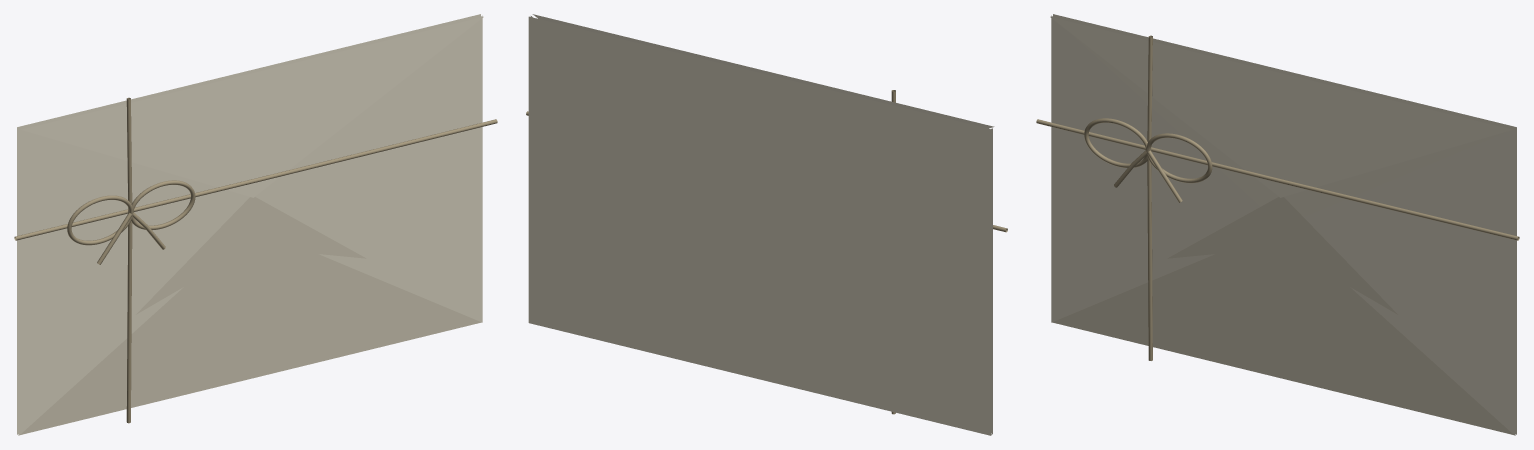
File: envelope.glb
The picture shows the model from 3 angles, left to right: view 1: azimuth 30°, elevation 25°; view 2: azimuth 150°, elevation 25°; view 3: azimuth 330°, elevation 25°; orthographic projection.
Parts seen in each view (by area): view 1: Warm letter paper merged, Envelope lower fold, Envelope flap, TwineHorizontal, TwineVertical, Flax twine merged, Flax twine merged.001; view 2: Letter lower, Letter upper, Warm letter paper merged, Envelope flap; view 3: Warm letter paper merged, Envelope lower fold, Envelope flap, TwineHorizontal, TwineVertical, Flax twine merged.001, Flax twine merged.
Boxes of the visible parts, x1,y1,x2,y2 form: Warm letter paper merged: [17, 14, 482, 435]; Envelope lower fold: [20, 197, 481, 434]; Envelope flap: [21, 16, 483, 197]; TwineHorizontal: [14, 119, 497, 240]; TwineVertical: [126, 97, 132, 423]; Flax twine merged: [67, 195, 132, 264]; Flax twine merged.001: [130, 180, 195, 249]; Letter lower: [552, 178, 963, 407]; Letter upper: [552, 48, 963, 277]; Warm letter paper merged: [528, 16, 992, 435]; Envelope flap: [532, 14, 994, 128]; Warm letter paper merged: [1051, 14, 1516, 435]; Envelope lower fold: [1052, 197, 1513, 434]; Envelope flap: [1050, 16, 1512, 197]; TwineHorizontal: [1036, 119, 1519, 240]; TwineVertical: [1147, 35, 1152, 360]; Flax twine merged.001: [1146, 133, 1212, 202]; Flax twine merged: [1084, 118, 1149, 187].
Size of the model in its own units: 5.6 by 3.6 by 0.2928.
